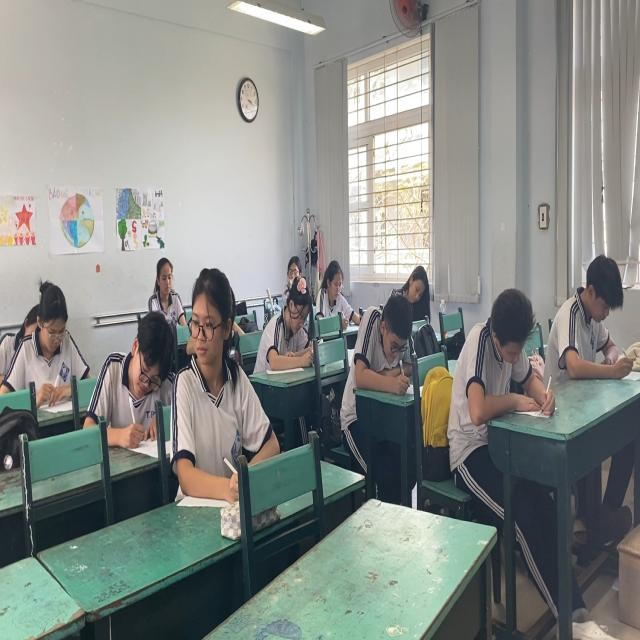cheating: (177, 260, 257, 474)
not_cheating: (546, 239, 640, 381), (449, 277, 546, 412), (105, 309, 179, 423), (14, 271, 82, 395), (354, 294, 412, 384), (259, 280, 313, 370), (319, 261, 360, 330), (146, 253, 185, 322), (399, 264, 432, 319)
